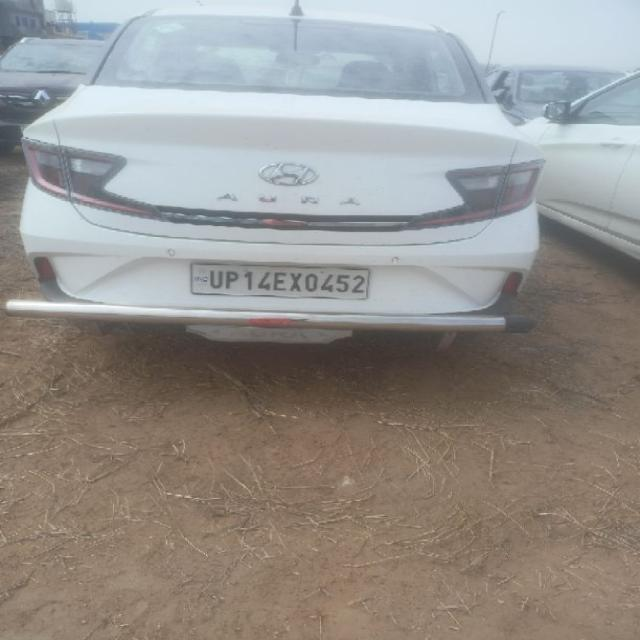license_plate: (188, 262, 370, 300)
